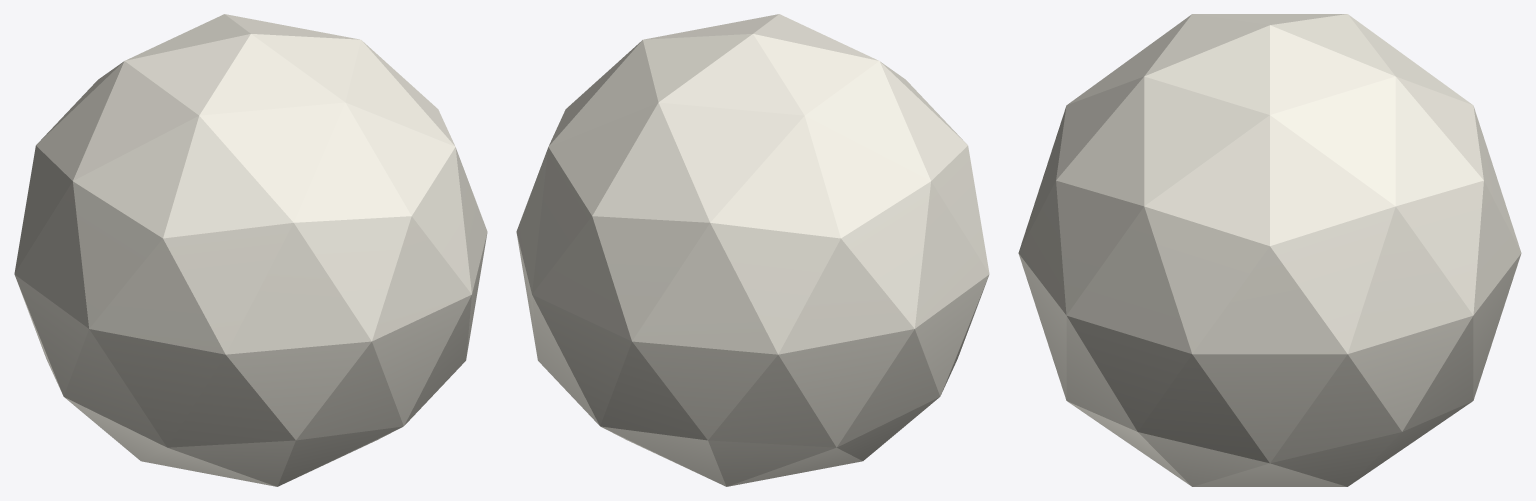
The model's file is tee_marker_ball_white.glb.
3 views of the same model, side by side, from view 1: azimuth 30°, elevation 25°; view 2: azimuth 150°, elevation 25°; view 3: azimuth 270°, elevation 25° (orthographic). The views are drawn at different scales.
Visible parts, largest first — view 1: Body; view 2: Body; view 3: Body.
Boxes of the visible parts, x1=… form: Body: x1=14, y1=14, x2=487, y2=486; Body: x1=516, y1=14, x2=989, y2=486; Body: x1=1018, y1=14, x2=1521, y2=486.
Bounding box in the file's own units: 0.5516 × 0.53 × 0.58.
1 material, 1 textured.
